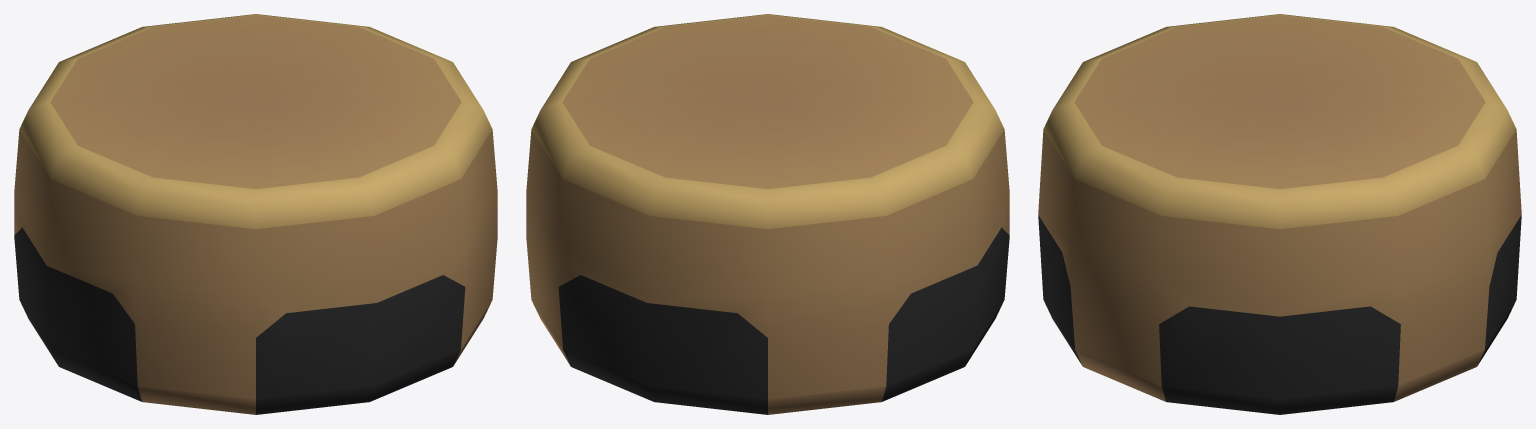
File: stool3_LOD_setup.fbx
The picture shows the model from 3 angles, left to right: view 1: azimuth 30°, elevation 25°; view 2: azimuth 150°, elevation 25°; view 3: azimuth 270°, elevation 25°; orthographic projection.
Visible parts, largest first — view 1: stool3_LOD0; view 2: stool3_LOD0; view 3: stool3_LOD0.
Boxes of the visible parts, left/top/right/bottom form: stool3_LOD0: left=14, top=14, right=497, bottom=414; stool3_LOD0: left=526, top=14, right=1009, bottom=414; stool3_LOD0: left=1038, top=14, right=1521, bottom=414.
Size of what is drawn, in the model's own units: 55.5 by 28.42 by 55.5.
